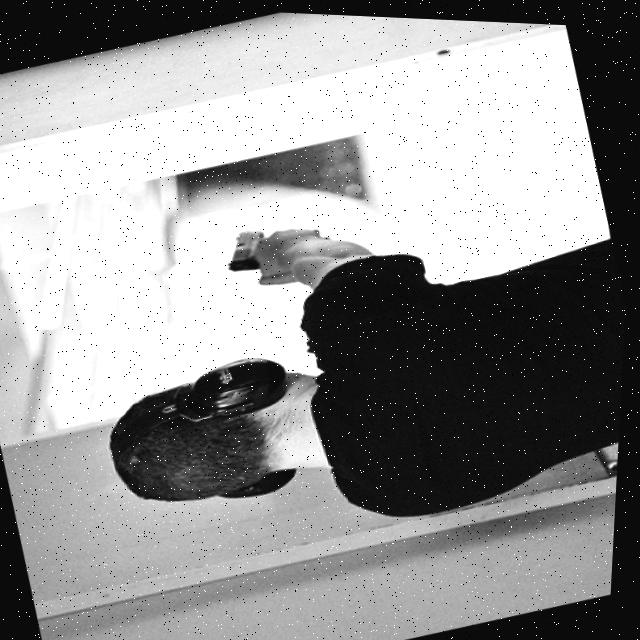pistol: (218, 221, 276, 275)
